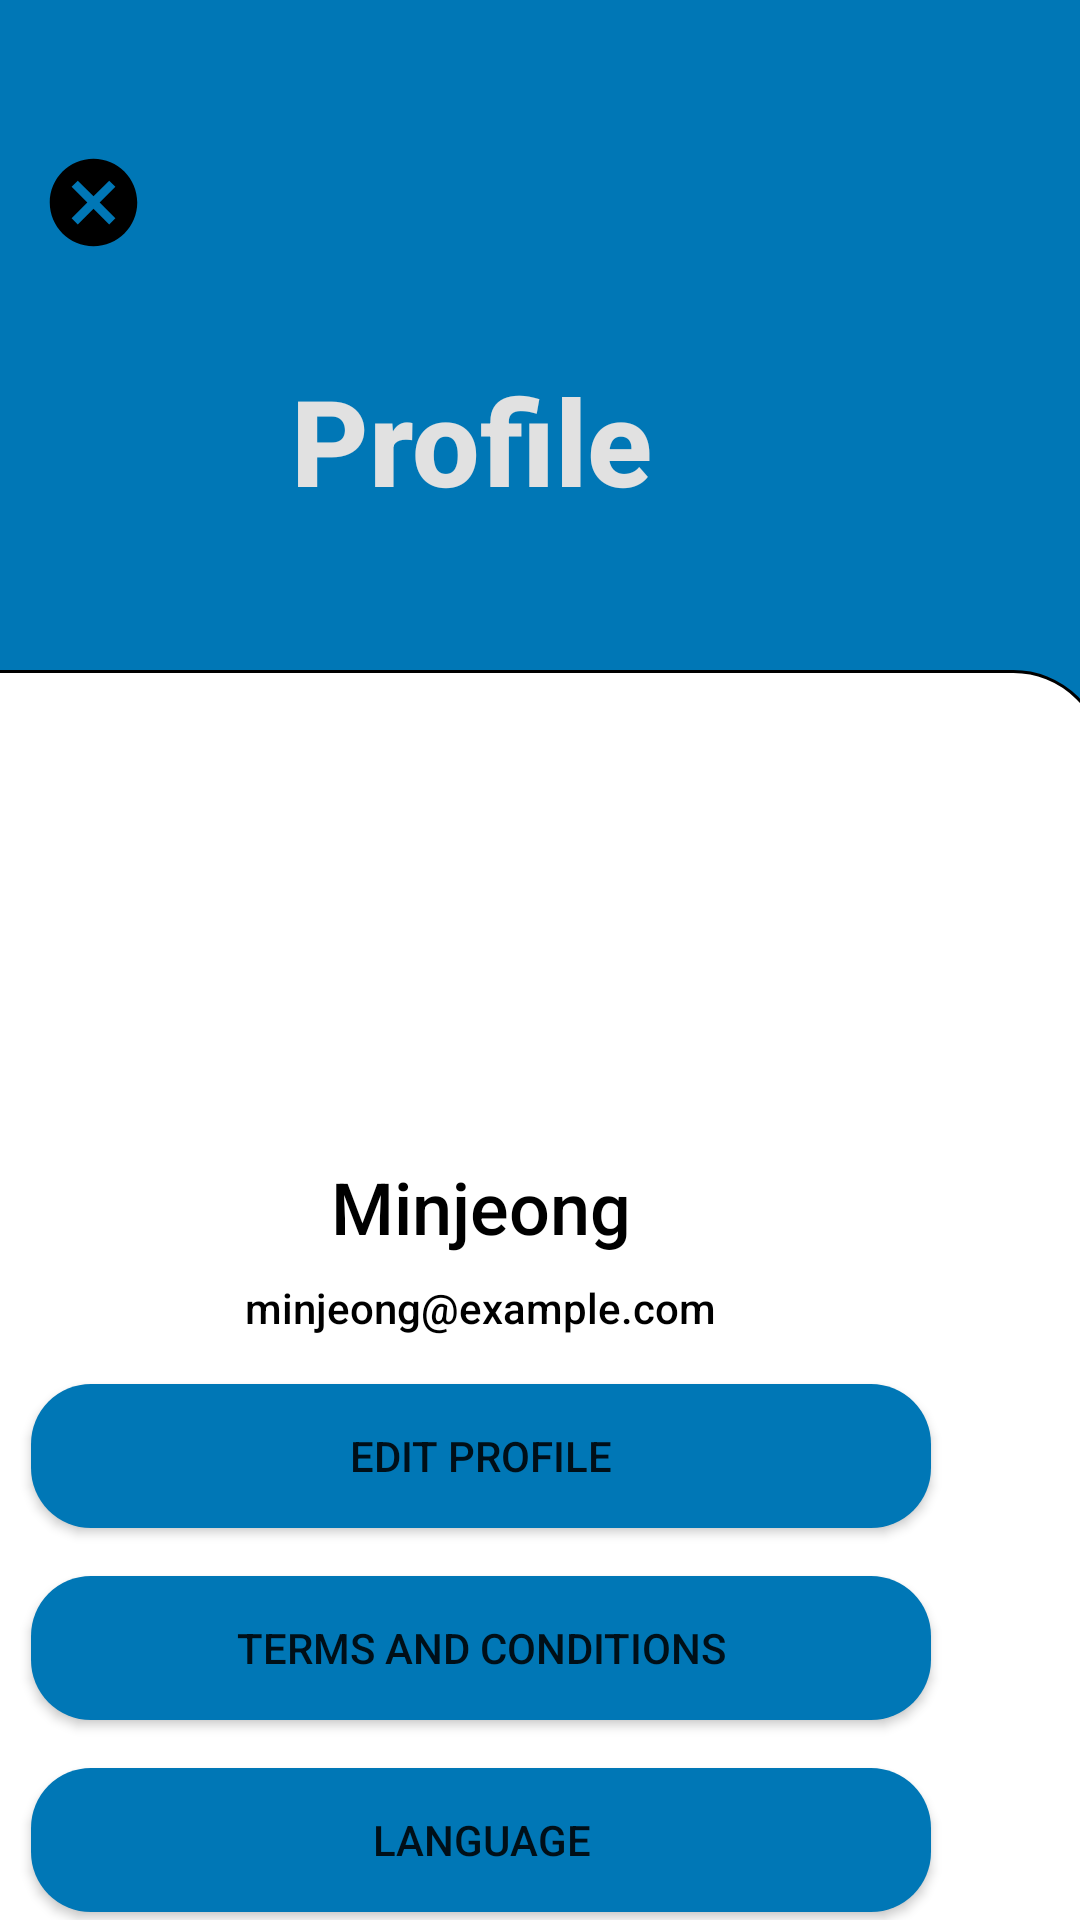

Point at icon controls on the screen. Image size 1080*1920, points as point (x, y).
cancel: point (93, 202)
